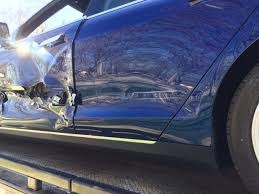Dent: (2, 83, 78, 130), (44, 46, 75, 85)
